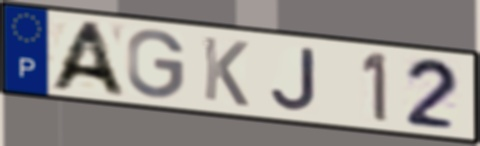1: (358, 50, 393, 124)
2: (400, 54, 464, 135)
A: (44, 19, 130, 99)
G: (125, 27, 188, 101)
J: (268, 45, 320, 113)
K: (200, 33, 251, 110)
